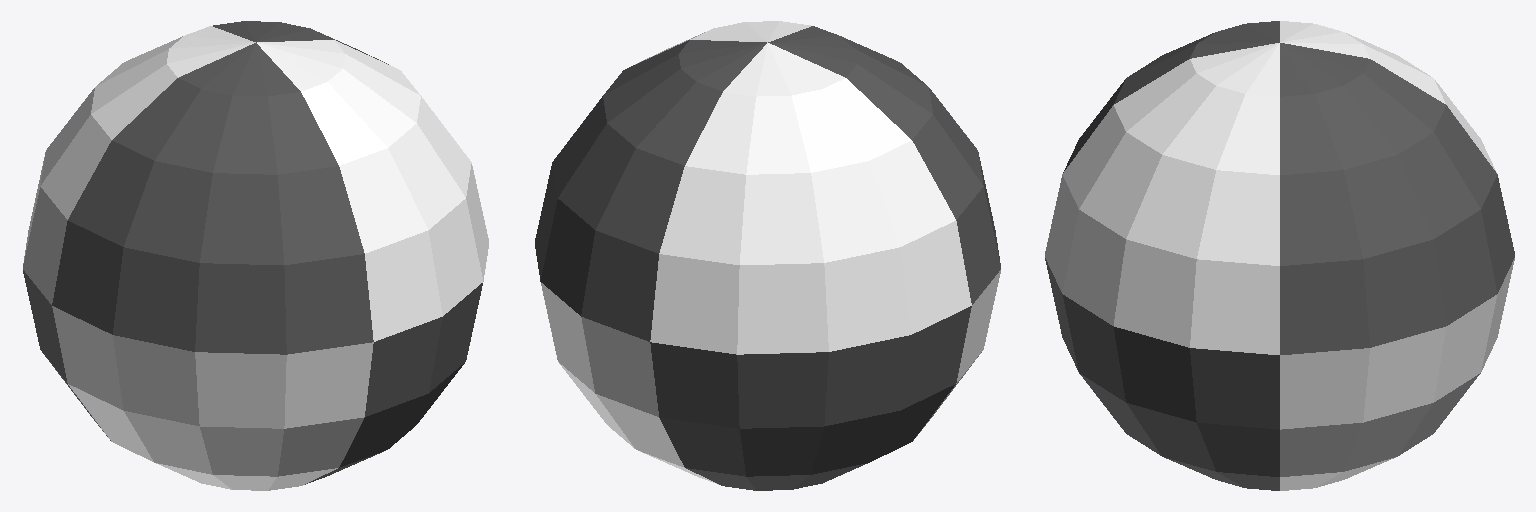
Rendered from ball-yoomp-bw.obj.
3 views of the same model, side by side, from view 1: azimuth 30°, elevation 25°; view 2: azimuth 150°, elevation 25°; view 3: azimuth 270°, elevation 25° (orthographic).
Visible parts, largest first — view 1: Sphere.001; view 2: Sphere.001; view 3: Sphere.001.
Boxes of the visible parts, <box> form: Sphere.001: <box>23,21,488,490</box>; Sphere.001: <box>535,21,1000,490</box>; Sphere.001: <box>1045,21,1514,490</box>.
Bounding box in the file's own units: 2 × 2 × 2.